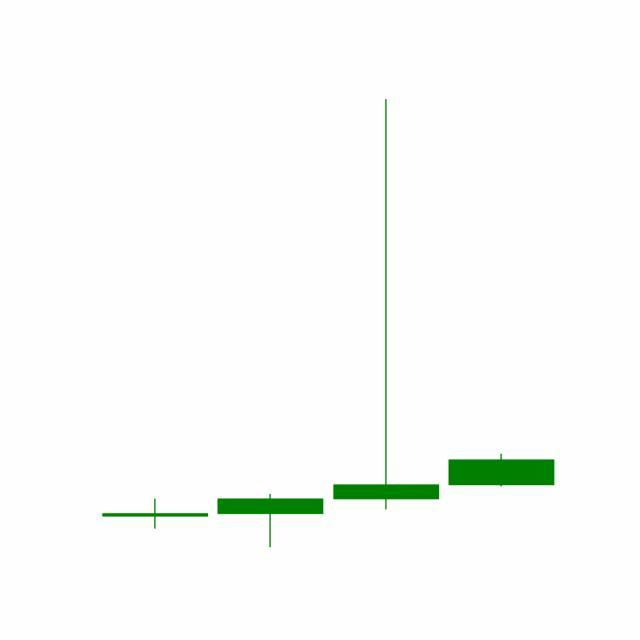Marubozu: (444, 454, 560, 488)
